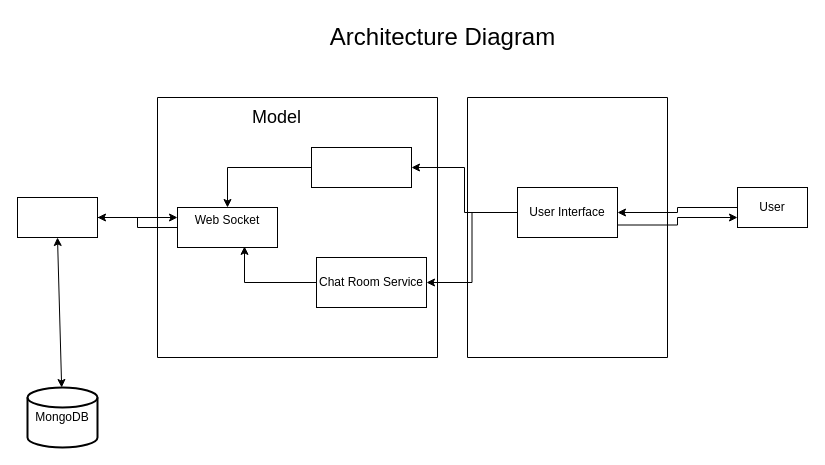
Image size: 825x465. Some labels were removed from this diagram. Each missing label, with the centre of its shape:
Backend: pixel 57 217
Message Service: pixel 361 167
UI: pixel 567 227
